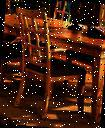Mesa: (0, 11, 104, 124)
Silla: (7, 7, 92, 122)
